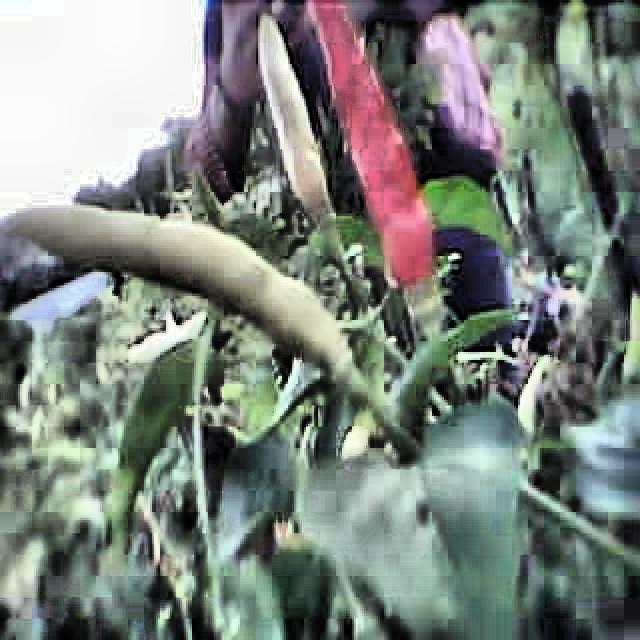Cabai: (315, 3, 501, 299)
